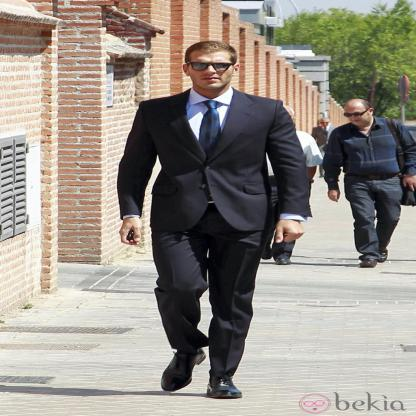face: (190, 54, 232, 89), (345, 105, 374, 127)
